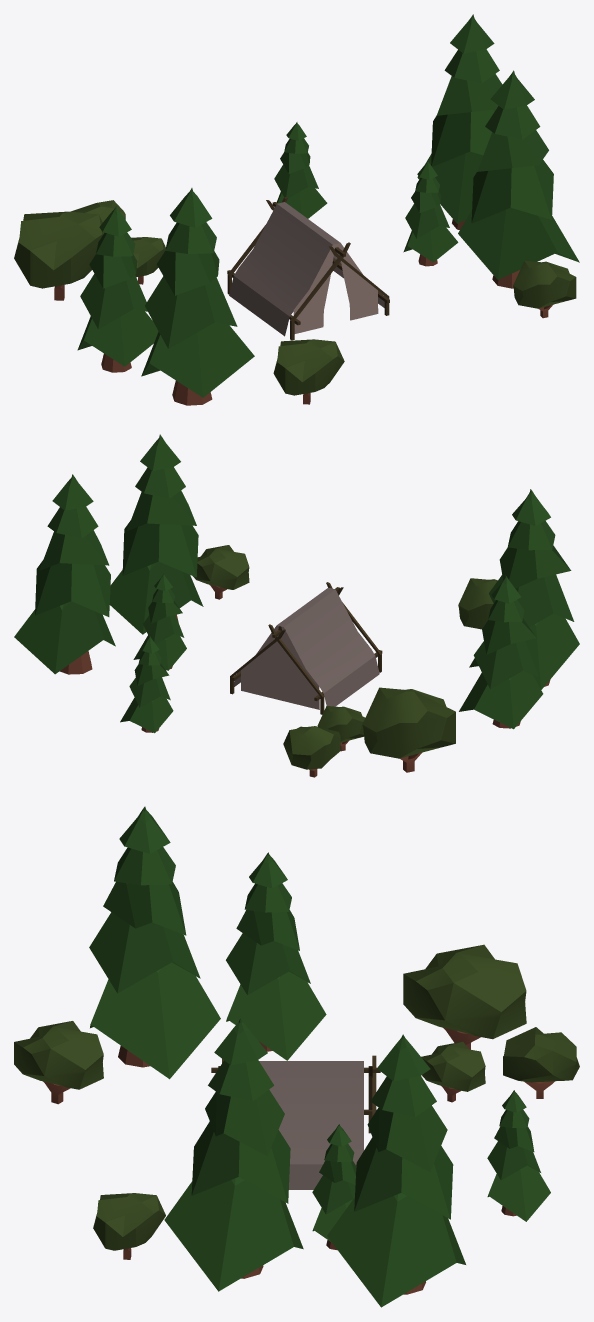
The model's file is HouseLVL1.fbx.
3 renders of one model, top to bottom at view 1: azimuth 30°, elevation 25°; view 2: azimuth 150°, elevation 25°; view 3: azimuth 270°, elevation 25°, orthographic. The views are drawn at different scales.
Visible parts, largest first — view 1: ель.004, ель.002, палатка, ель.001, ель.005, куст.001, куст.003, ель.003, ель.006, куст.002, куст.004, куст; view 2: ель.001, палатка, ель.004, ель.002, ель.005, куст.001, ель.006, ель.003, куст, куст.002, куст.003, куст.004; view 3: ель.004, ель.001, ель.002, ель.005, палатка, куст.001, куст.003, ель.006, куст, куст.002, ель.003, куст.004.
Part boxes in pixels (<box>): ель.004: <box>458,70,579,288</box>; ель.002: <box>141,188,254,405</box>; палатка: <box>227,196,389,340</box>; ель.001: <box>417,14,502,229</box>; ель.005: <box>77,206,158,372</box>; куст.001: <box>14,211,104,300</box>; куст.003: <box>273,339,344,404</box>; ель.003: <box>403,161,458,266</box>; ель.006: <box>274,122,327,218</box>; куст.002: <box>513,260,576,318</box>; куст.004: <box>131,237,165,284</box>; куст: <box>71,200,125,222</box>; ель.001: <box>14,474,115,674</box>; палатка: <box>230,582,382,714</box>; ель.004: <box>109,434,203,634</box>; ель.002: <box>469,489,579,689</box>; ель.005: <box>459,575,543,729</box>; куст.001: <box>362,687,455,772</box>; ель.006: <box>120,636,173,733</box>; ель.003: <box>133,573,186,670</box>; куст: <box>283,726,340,777</box>; куст.002: <box>193,545,249,599</box>; куст.003: <box>458,578,497,629</box>; куст.004: <box>317,706,364,751</box>; ель.004: <box>164,1018,303,1291</box>; ель.001: <box>327,1034,465,1307</box>; ель.002: <box>89,806,220,1079</box>; ель.005: <box>226,852,326,1060</box>; палатка: <box>211,1055,380,1189</box>; куст.001: <box>403,944,526,1049</box>; куст.003: <box>14,1021,103,1104</box>; ель.006: <box>487,1090,550,1221</box>; куст: <box>503,1027,579,1098</box>; куст.002: <box>93,1193,165,1259</box>; ель.003: <box>312,1124,356,1250</box>; куст.004: <box>421,1041,485,1102</box>.
Size of the model in its own units: 844 by 335 by 679.
